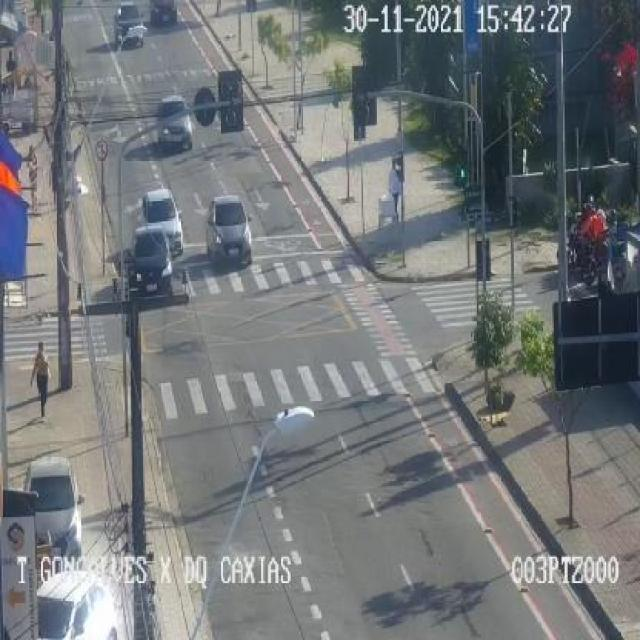car: (38, 571, 118, 640), (26, 456, 81, 556), (128, 226, 172, 295), (208, 195, 251, 265), (142, 189, 182, 256), (158, 96, 190, 150), (115, 1, 142, 44), (150, 0, 178, 27)
pedestrian: (30, 342, 50, 417)
